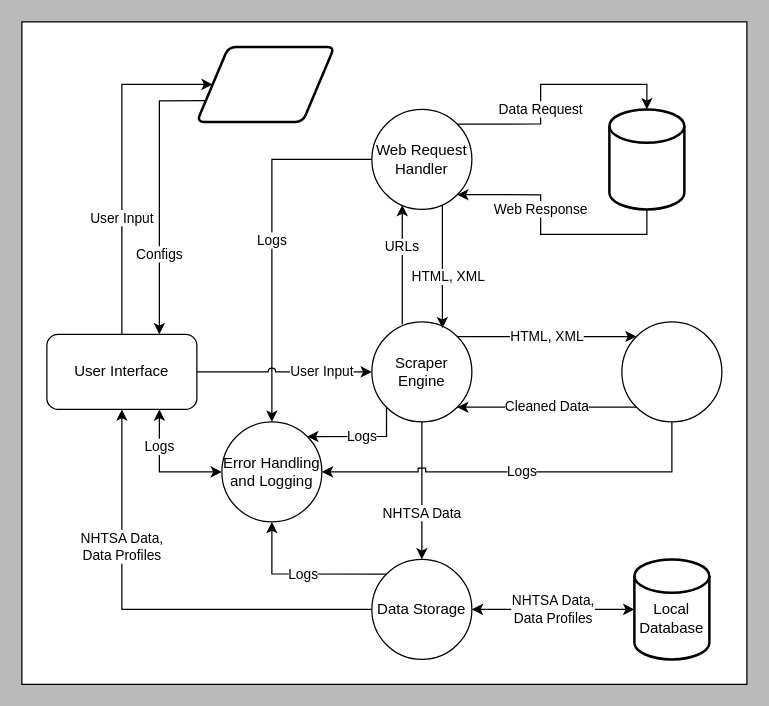
This 769x706 diagram has some shape labels left out. Each missing label, with the centre of its shape:
"Configuration Options" goes at point 265,83.
"NHTSA Database" goes at point 646,159.
"Parsing and Data Extraction" goes at point 671,371.
